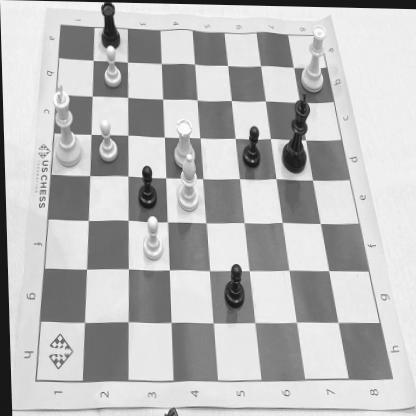black-king: (274, 87, 314, 177)
black-pawn: (238, 120, 264, 170), (221, 258, 246, 310), (133, 160, 159, 209)
black-rook: (97, 2, 123, 53)
white-bishop: (174, 151, 202, 216)
white-king: (47, 78, 86, 172)
white-pawn: (138, 212, 166, 262), (94, 113, 119, 166), (99, 40, 126, 89)
white-queen: (295, 20, 330, 96)
white-rook: (168, 112, 200, 172)
